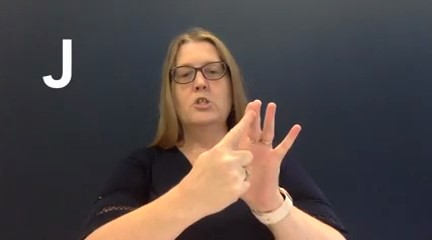J: (194, 95, 309, 214)
